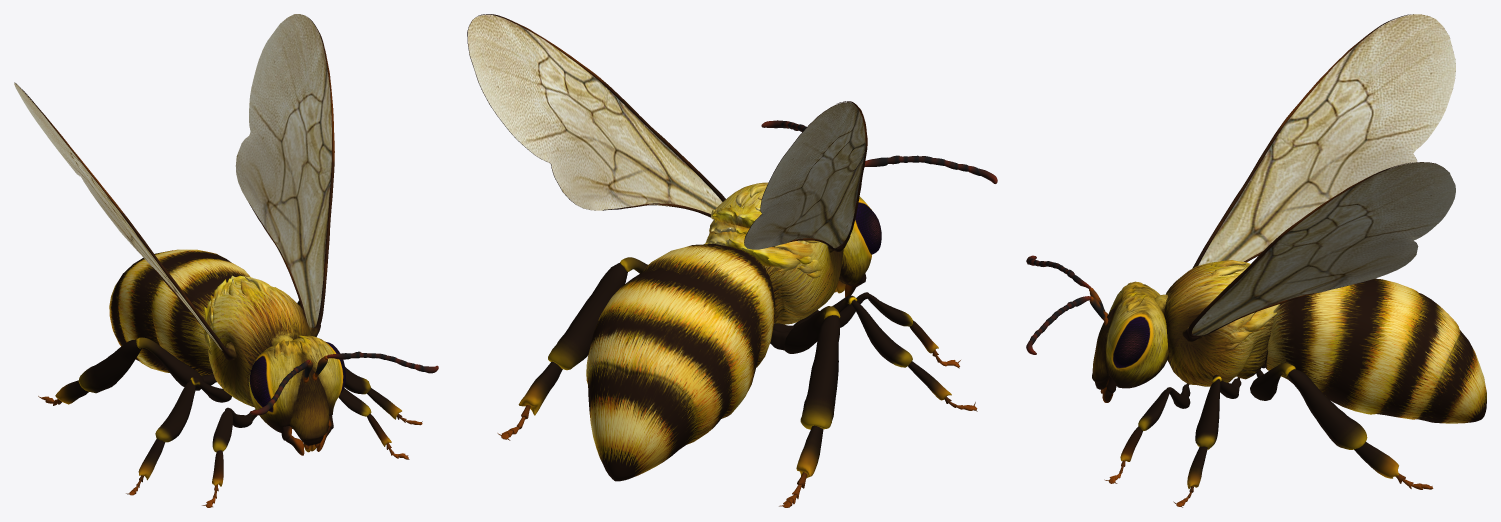
The model's file is Bee.glb.
The picture shows the model from 3 angles, left to right: view 1: azimuth 30°, elevation 25°; view 2: azimuth 150°, elevation 25°; view 3: azimuth 270°, elevation 25°; orthographic projection. The views are drawn at different scales.
Visible parts, largest first — view 1: node_id115; view 2: node_id115; view 3: node_id115.
Boxes of the visible parts, box(x1,y1,x2,y2) form: node_id115: box(14, 14, 438, 507); node_id115: box(467, 14, 997, 507); node_id115: box(1026, 14, 1486, 507).
Bounding box in the file's own units: 0.4791 × 0.5015 × 0.608.
1 material, 1 textured.
